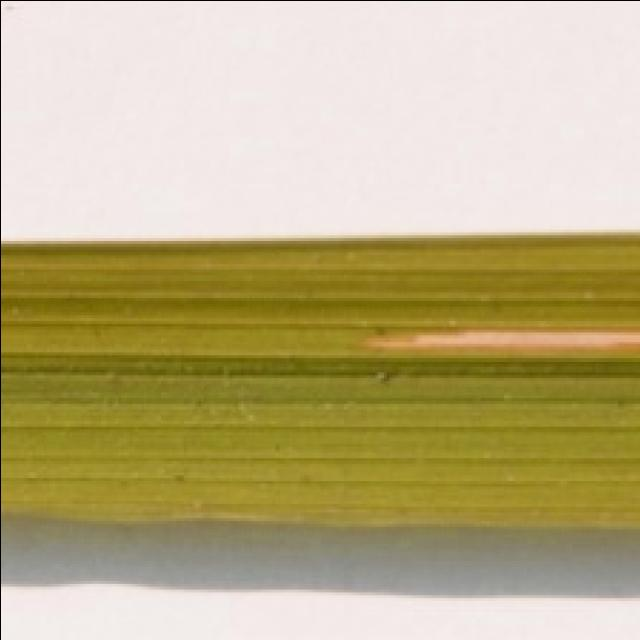Unhealthy: (359, 329, 640, 353)
